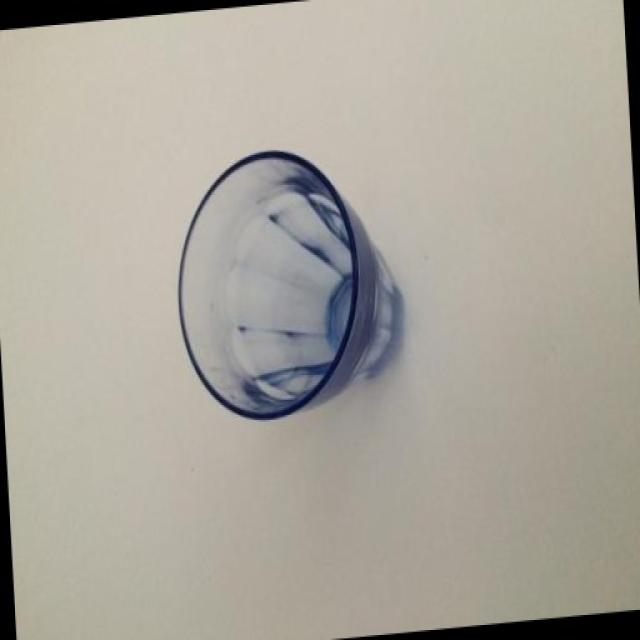vidrio: (162, 141, 464, 458)
